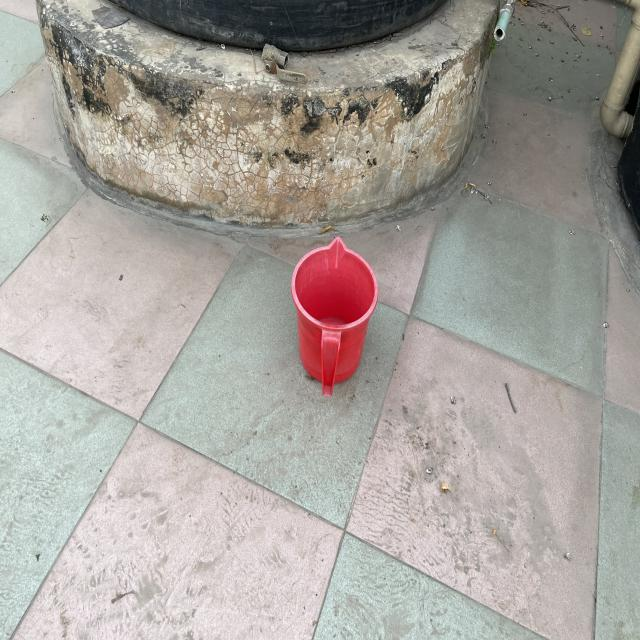Breeding Place: (286, 239, 378, 393)
